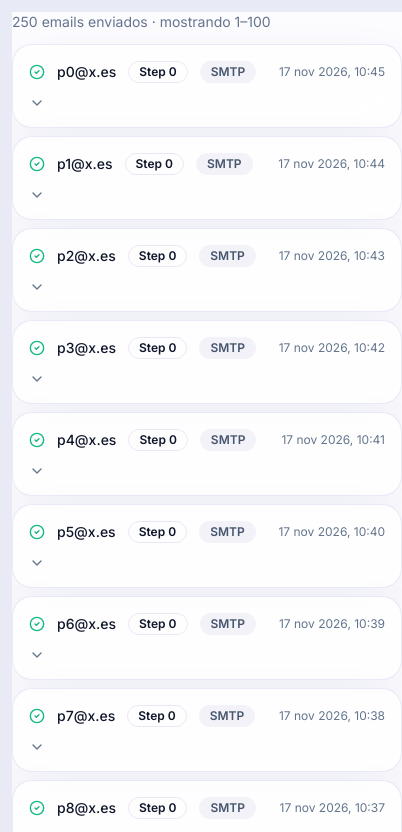
Test: Registro de envíos de la campaña › el cuerpo se trae sólo al abrir ese correo
Click the text "p3@x.es" at (86, 348), box [57,338,116,358]
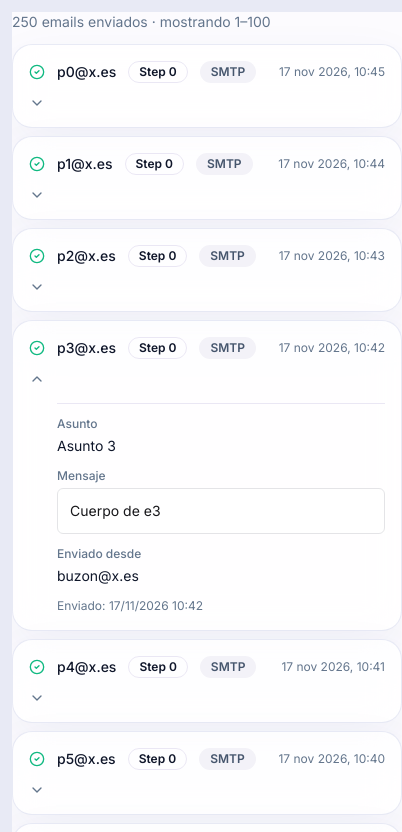
Result: the text "Cuerpo de e3" is shown at [70,502,160,519]
